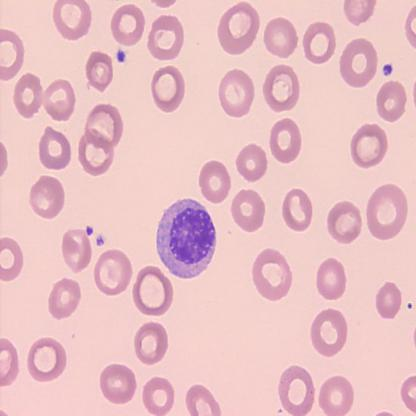Myelocyte: (154, 196, 216, 278)
